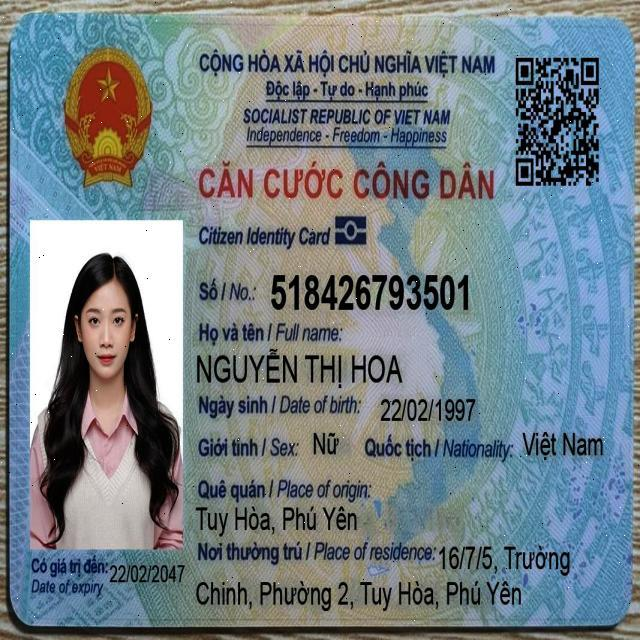current_place: (192, 575, 526, 616), (436, 538, 574, 582)
dob: (376, 392, 480, 430)
expire_date: (107, 556, 188, 590)
gender: (309, 425, 344, 462)
id: (266, 265, 475, 318)
name: (191, 343, 407, 392)
nationality: (518, 425, 607, 466)
origin_place: (192, 498, 361, 536)
qr: (512, 50, 604, 192)
